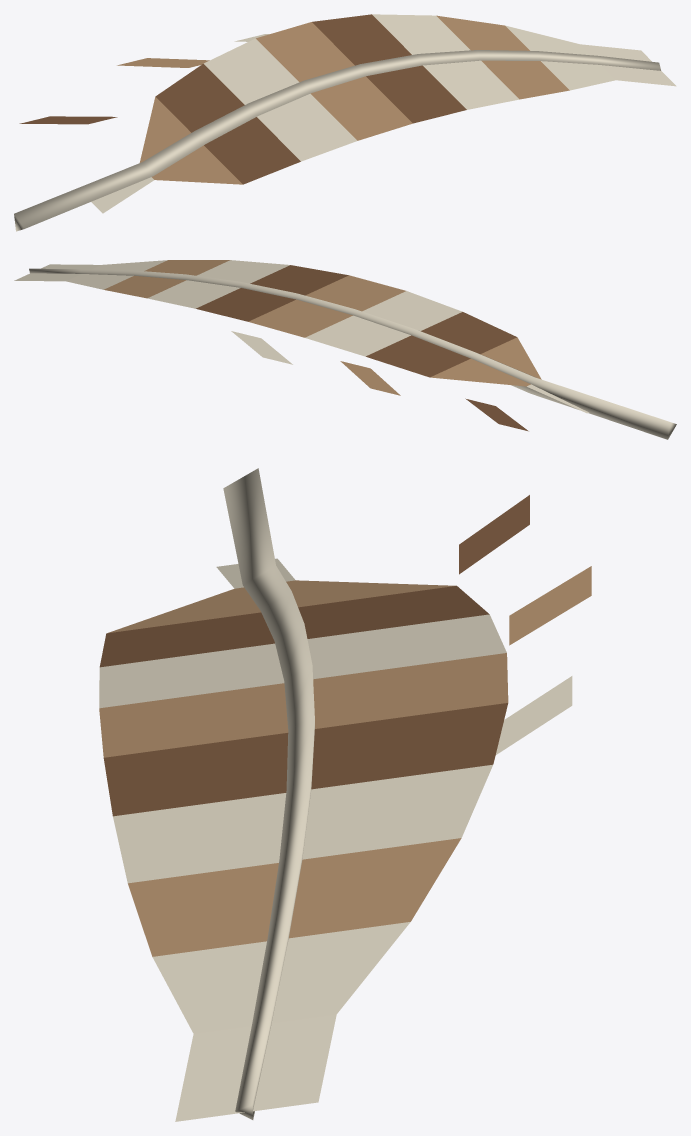
Rendered from ing_owl_feather.gltf.
The picture shows the model from 3 angles, top to bottom: view 1: azimuth 30°, elevation 25°; view 2: azimuth 150°, elevation 25°; view 3: azimuth 270°, elevation 25°; orthographic projection. The views are drawn at different scales.
Visible parts, largest first — view 1: ing_owl_feather; view 2: ing_owl_feather; view 3: ing_owl_feather.
Part boxes in pixels (bbox=[...]): ing_owl_feather: bbox=[14, 14, 676, 231]; ing_owl_feather: bbox=[14, 260, 676, 439]; ing_owl_feather: bbox=[99, 468, 591, 1121].
Size of what is drawn, in the model's own units: 0.2511 by 0.0286 by 0.0834.
